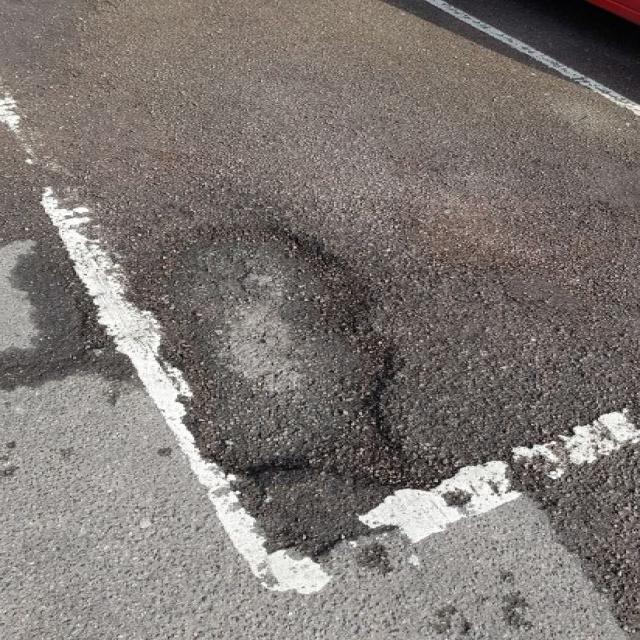Pothole: (130, 215, 446, 501)
